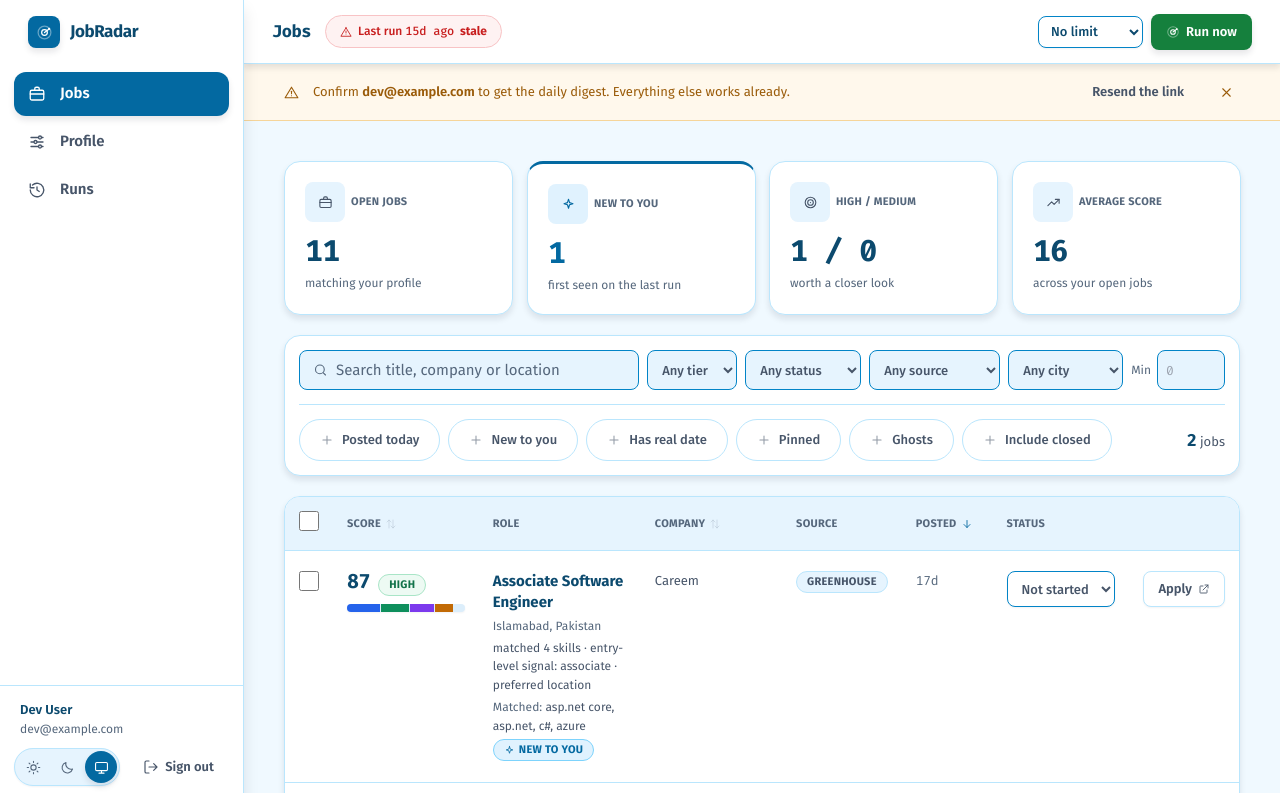
the unverified banner › can be dismissed without blocking anything
The image size is (1280, 793).
Expected: the text "to get the daily digest" is shown, [475,84,790,99]
Click the button named "dismiss". click: (1226, 92)
box: [1213,78,1240,106]
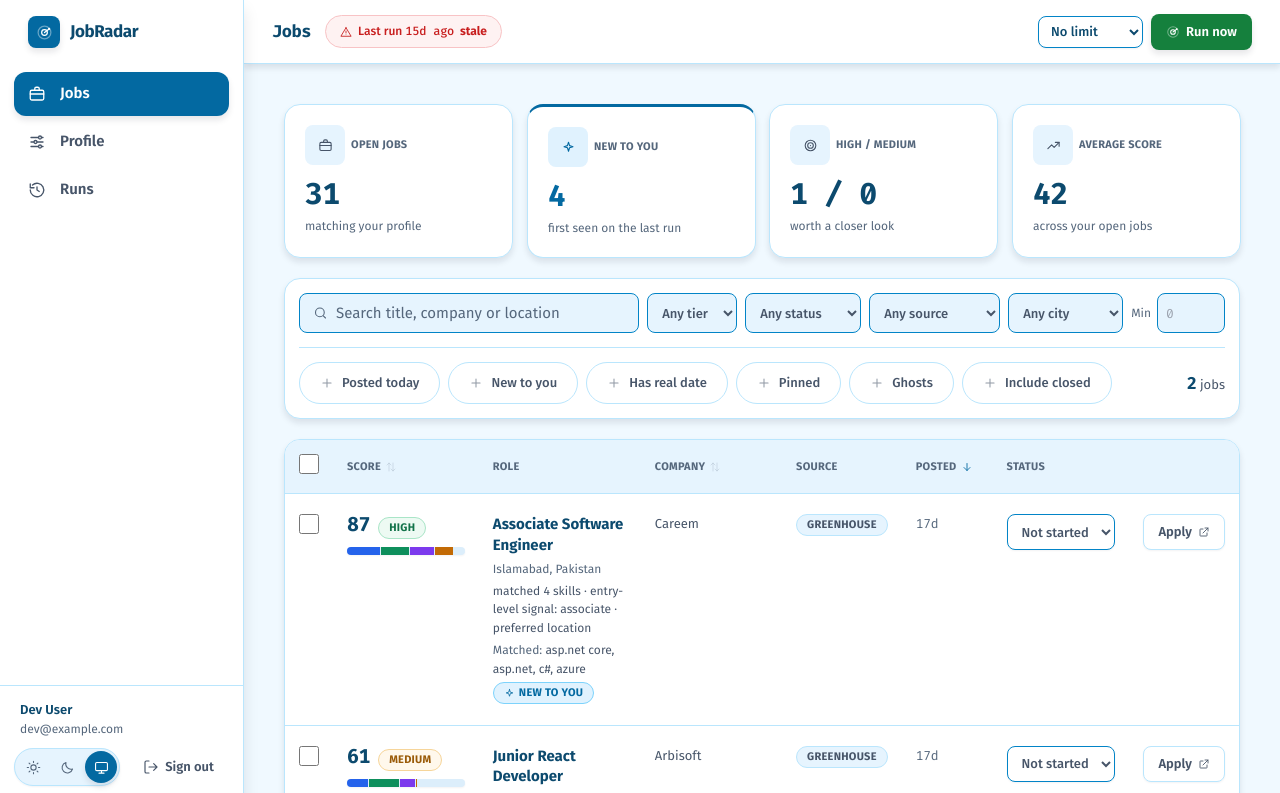
Expected: the heading "Jobs" is shown, [272,18,311,45]
Result: the text "to get the daily digest" is gone
